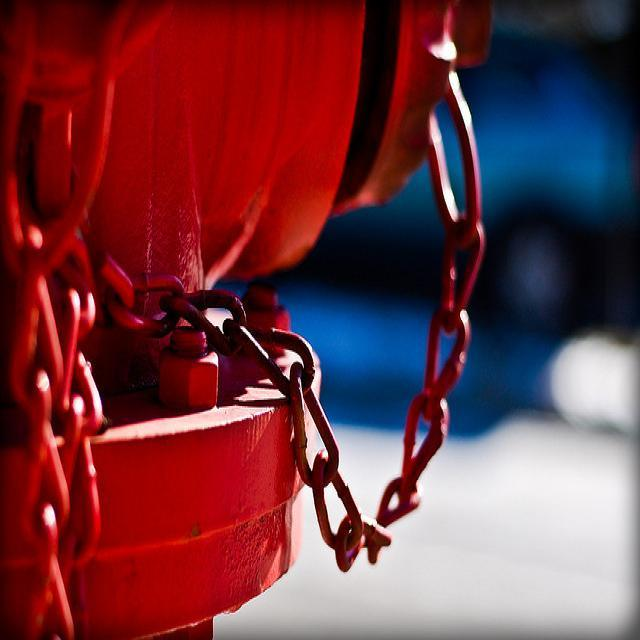fire_hydrant: (0, 0, 491, 640)
